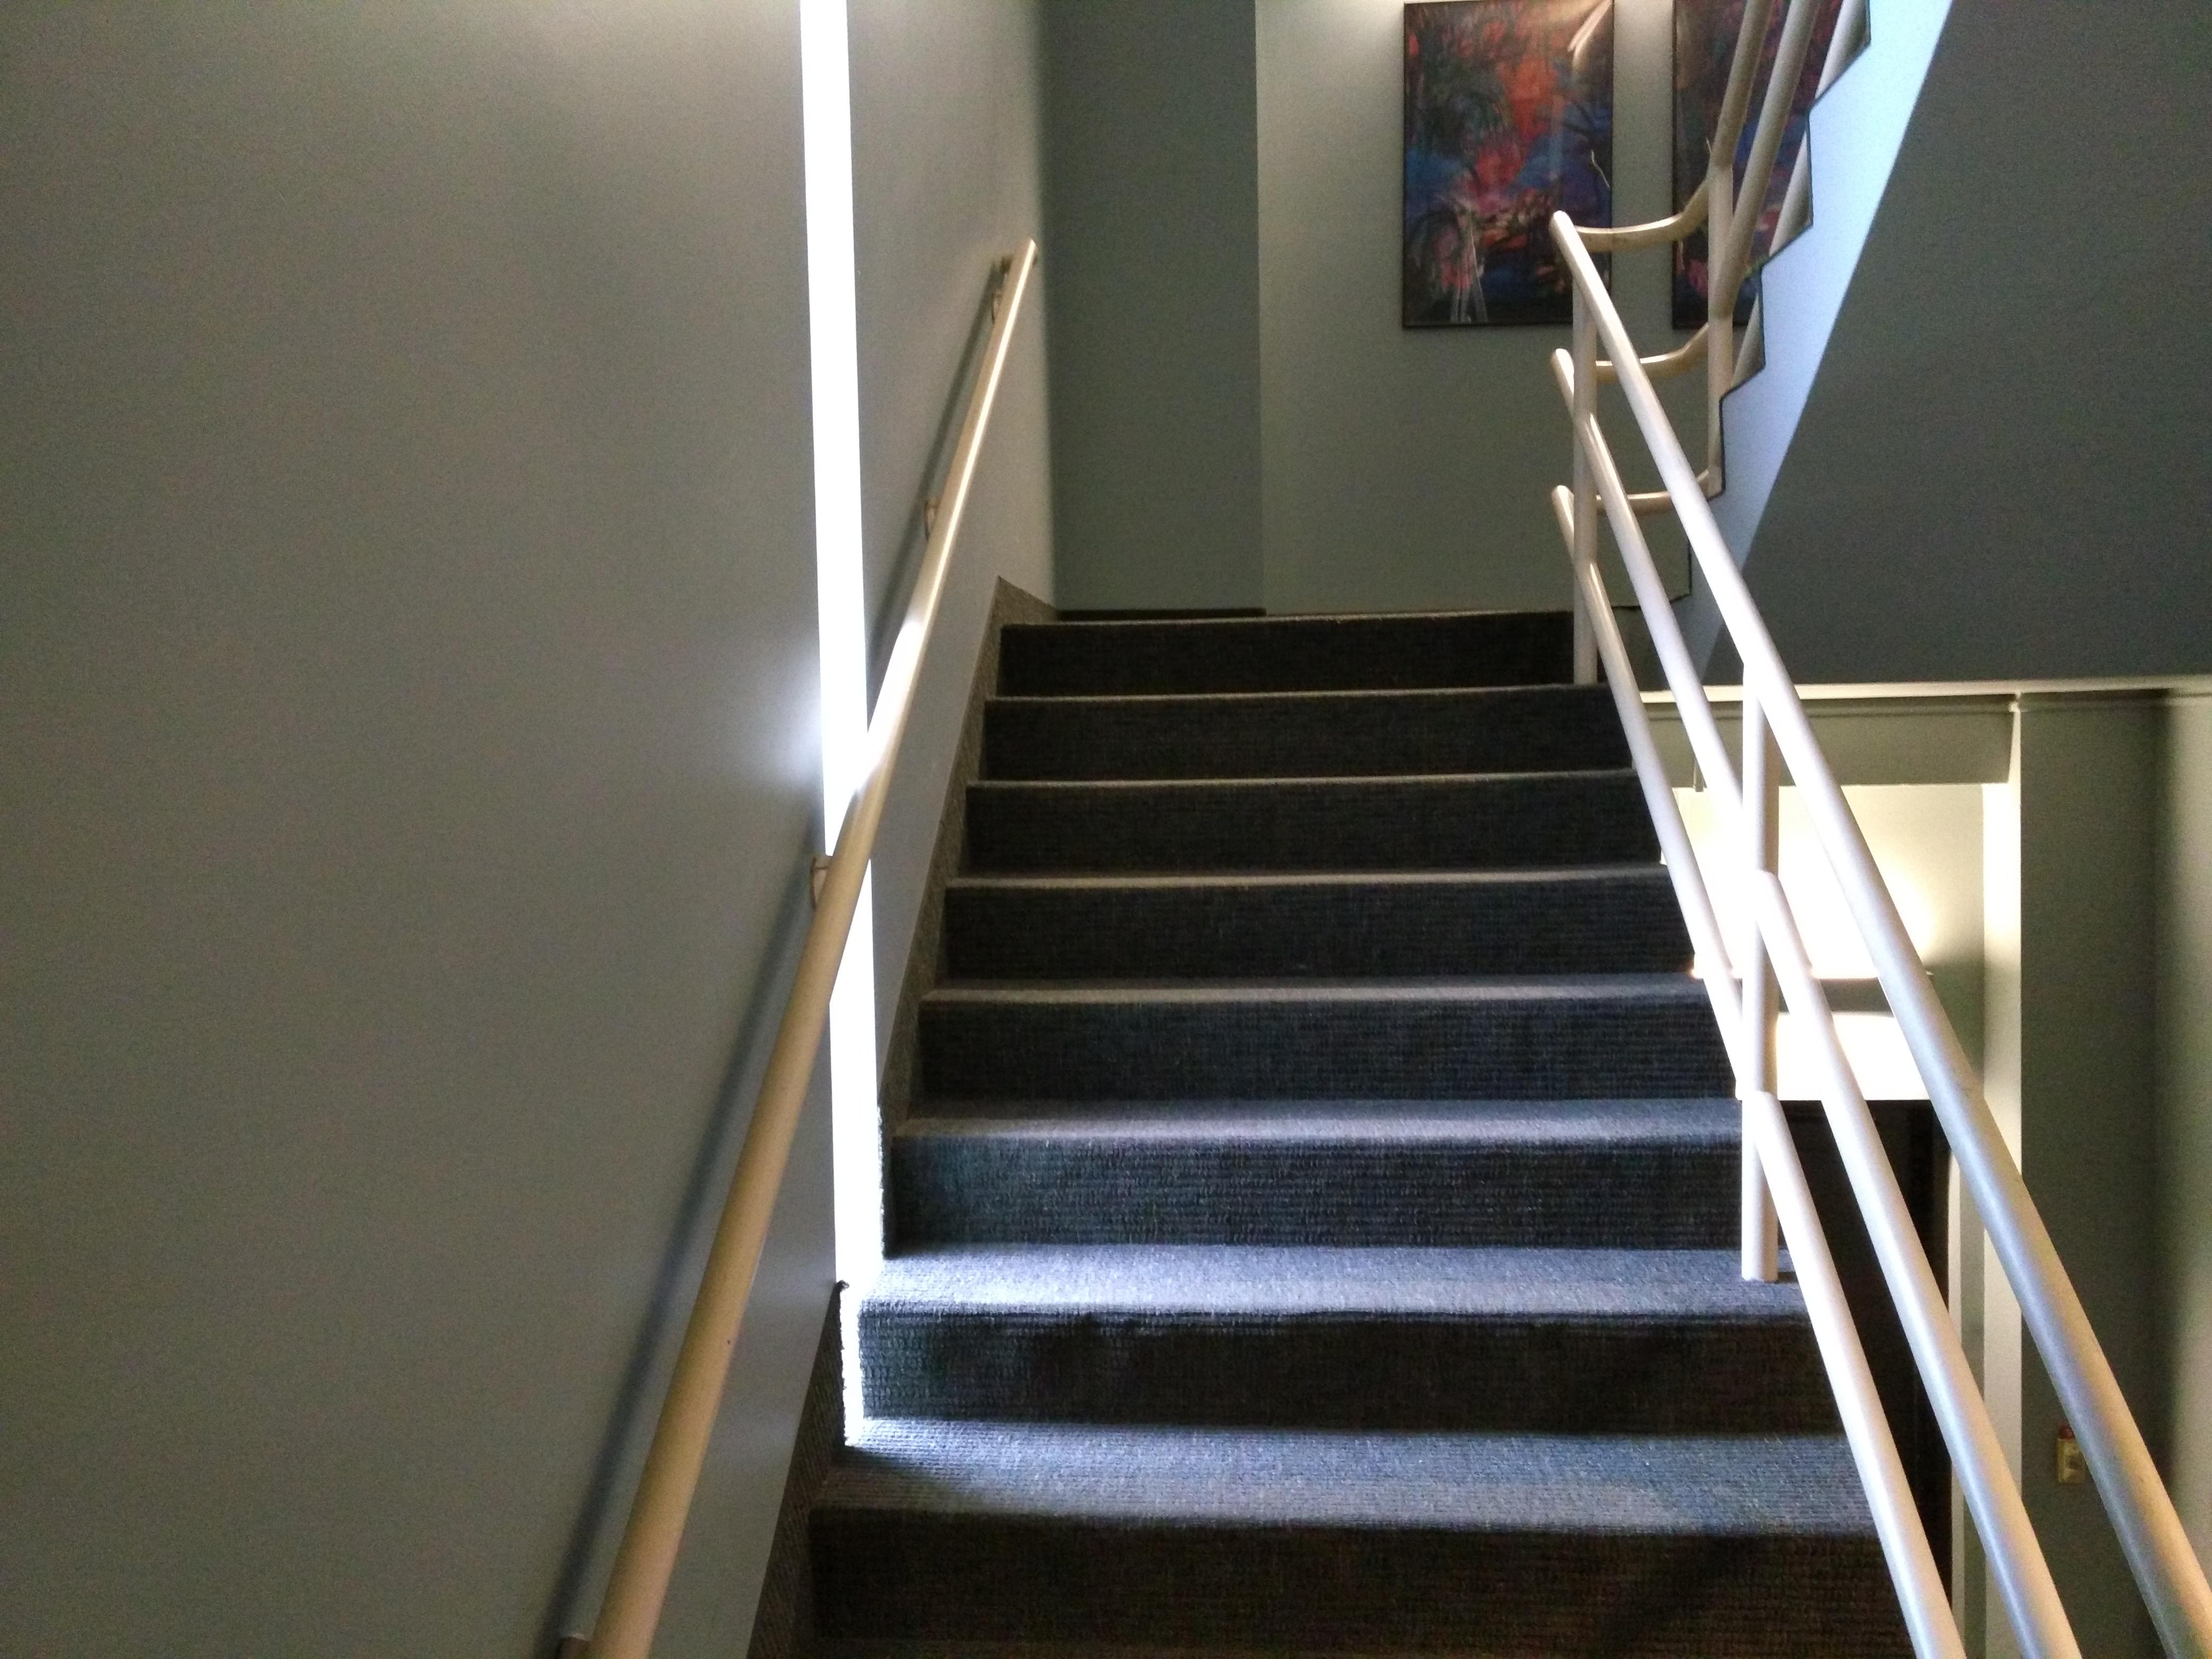stairs_up: (810, 551, 1904, 1652)
